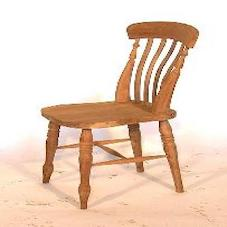chair: (27, 21, 205, 207)
